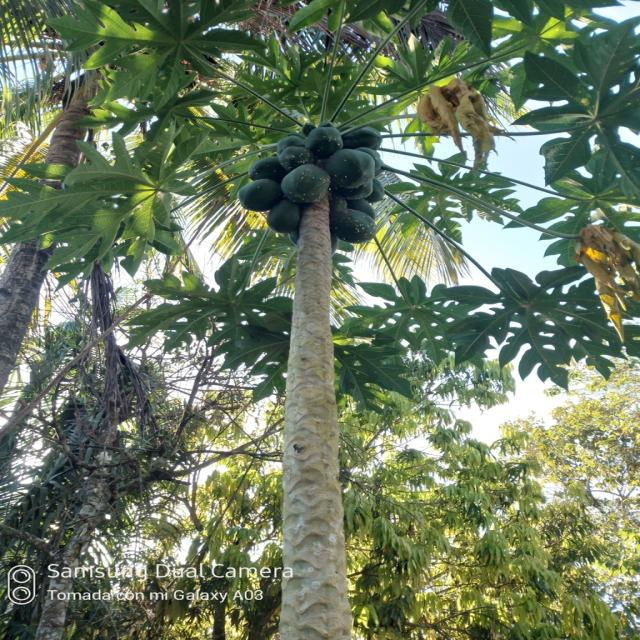Papaya-Tree: (12, 9, 640, 510)
